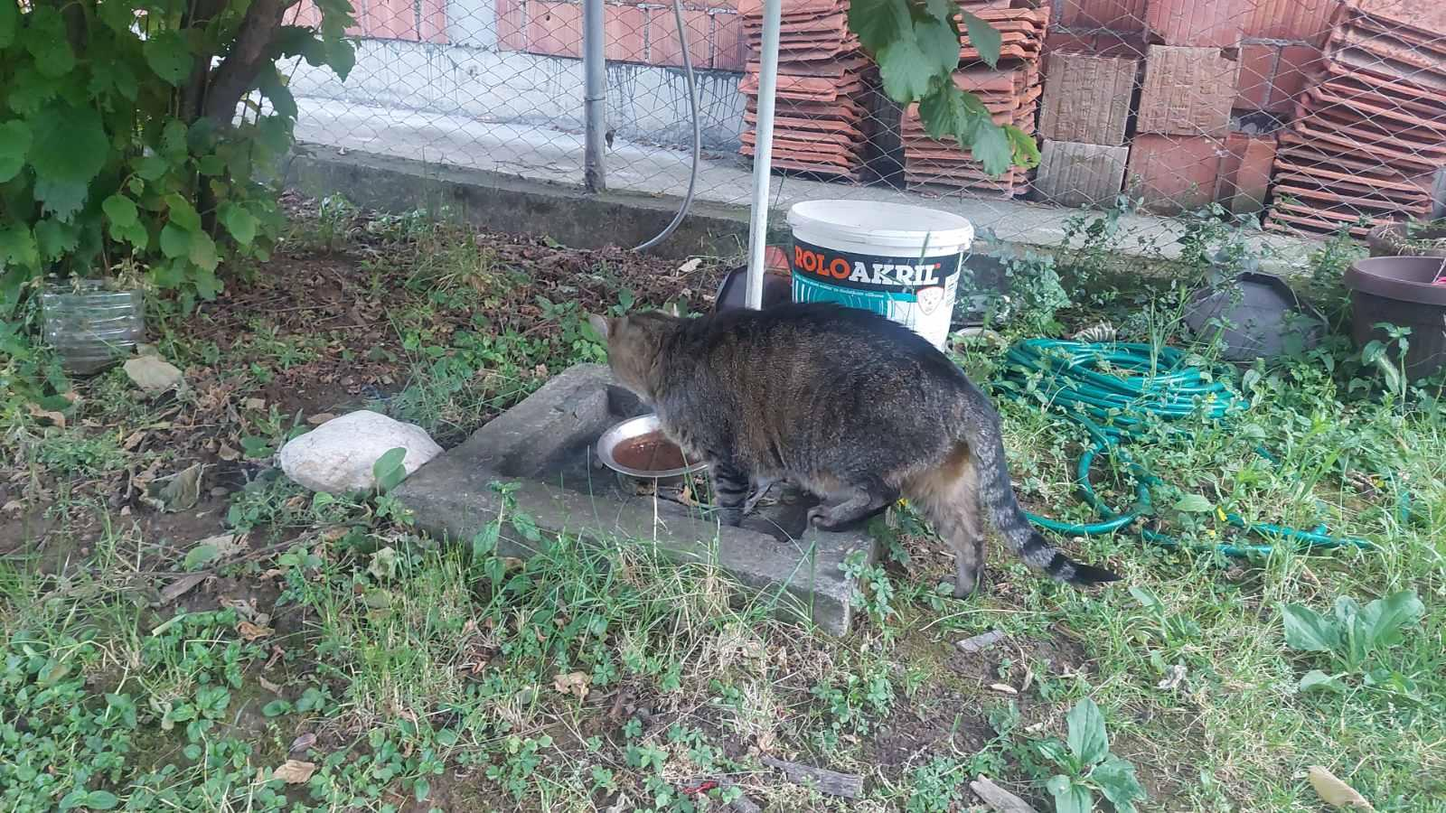macka: (588, 299, 1122, 599)
